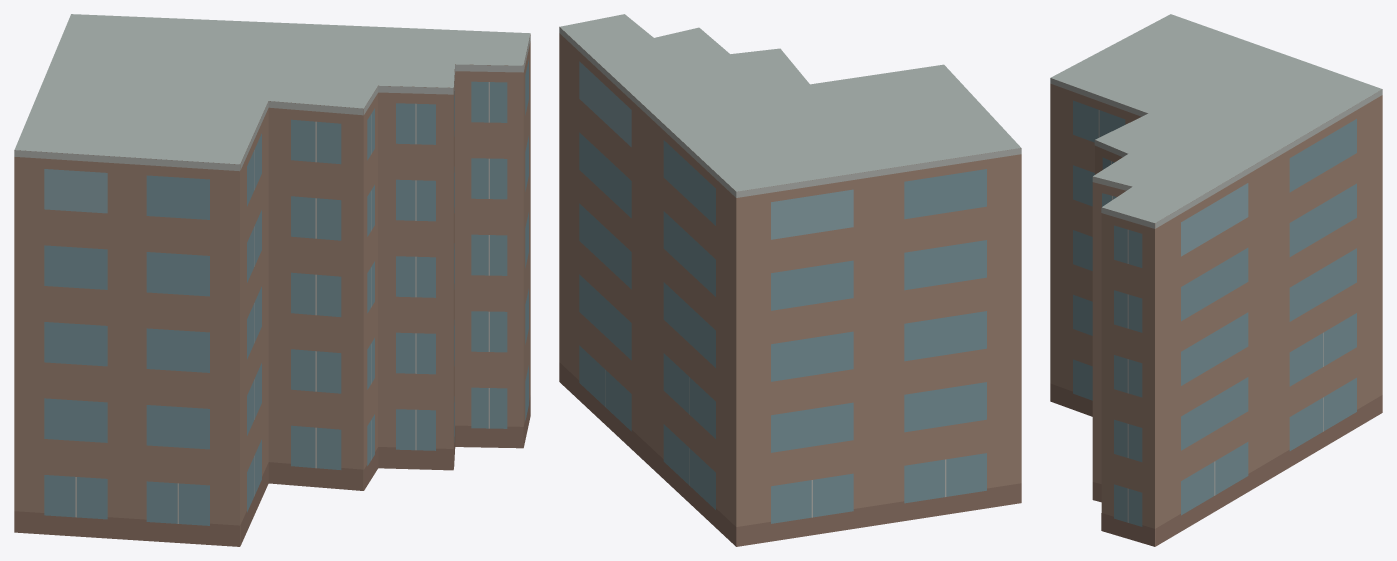
Rendered from survey-upis-33009374.glb.
3 renders of one model, left to right at view 1: azimuth 30°, elevation 25°; view 2: azimuth 150°, elevation 25°; view 3: azimuth 270°, elevation 25°, orthographic. The views are drawn at different scales.
Visible parts, largest first — view 1: survey-upis-33009374.tmp; view 2: survey-upis-33009374.tmp; view 3: survey-upis-33009374.tmp.
Part boxes in pixels (x1,y1,x2,y2): survey-upis-33009374.tmp: (14,14,530,546); survey-upis-33009374.tmp: (559,14,1021,546); survey-upis-33009374.tmp: (1050,14,1382,546).
Size of the model in its own units: 19.15 by 13.8 by 12.85.
